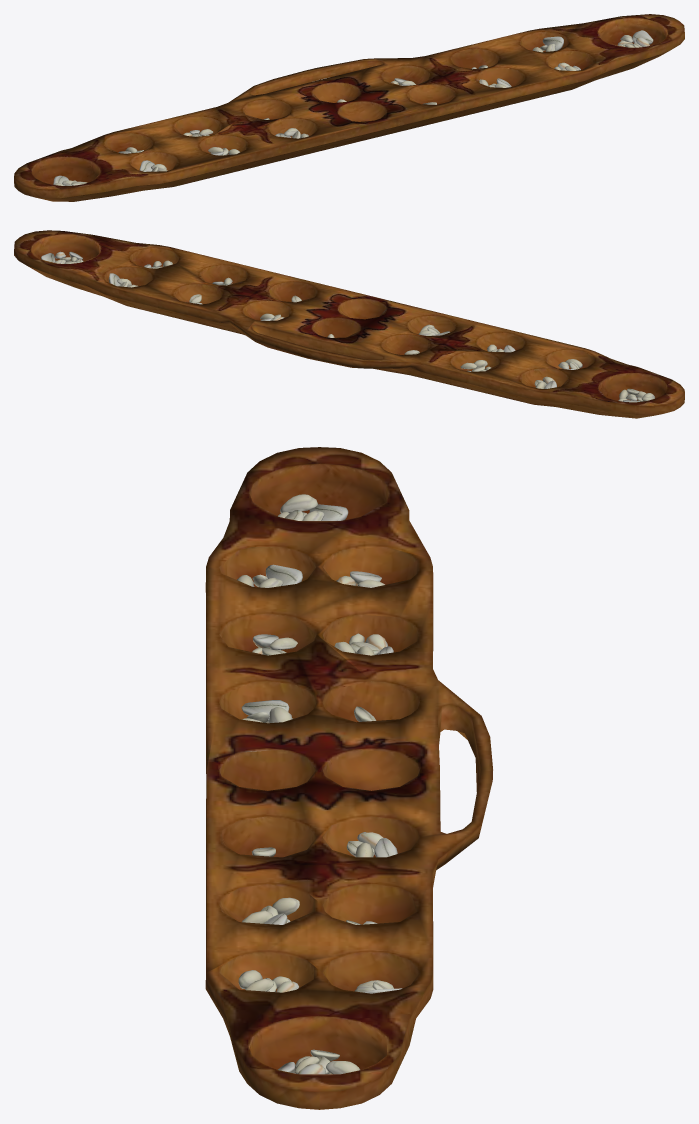
The model's file is sungka_board_02.061c29dd.glb.
3 renders of one model, top to bottom at view 1: azimuth 30°, elevation 25°; view 2: azimuth 150°, elevation 25°; view 3: azimuth 270°, elevation 25°, orthographic. The views are drawn at different scales.
Parts seen in each view (by area): view 1: sungka_board_02, sungka_board_02_shells; view 2: sungka_board_02, sungka_board_02_shells; view 3: sungka_board_02, sungka_board_02_shells.
Boxes of the visible parts, left/top/right/bottom form: sungka_board_02: left=14, top=14, right=684, bottom=201; sungka_board_02_shells: left=53, top=30, right=653, bottom=185; sungka_board_02: left=14, top=230, right=684, bottom=418; sungka_board_02_shells: left=41, top=251, right=654, bottom=402; sungka_board_02: left=205, top=447, right=492, bottom=1109; sungka_board_02_shells: left=237, top=494, right=402, bottom=1074.
Size of the model in its own units: 0.95 by 0.0263 by 0.1787.
1 material, 1 textured.
